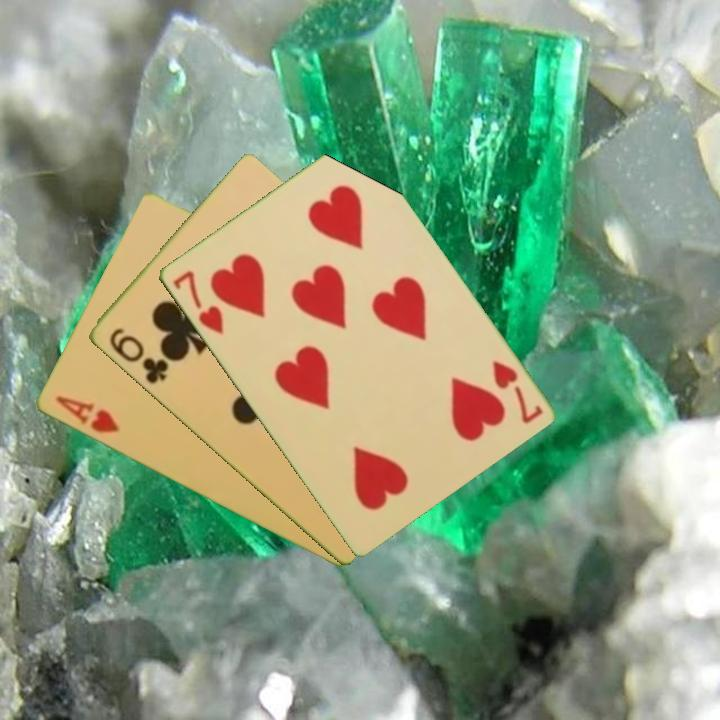6c: (105, 324, 171, 387)
7h: (169, 267, 226, 337), (488, 357, 545, 427)
Ah: (52, 392, 122, 436)
